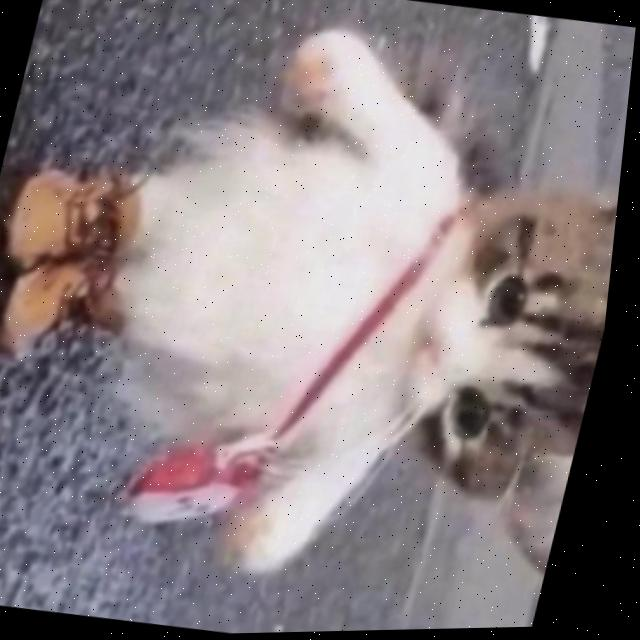Cats: (63, 8, 638, 615)
